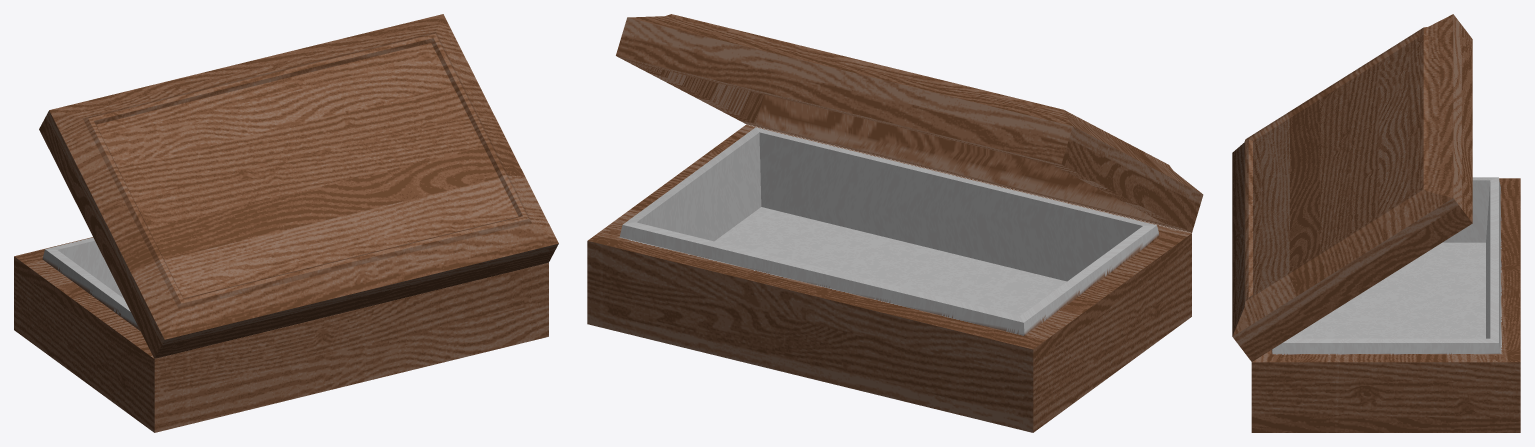
Rendered from joyero.FBX.
3 renders of one model, left to right at view 1: azimuth 30°, elevation 25°; view 2: azimuth 150°, elevation 25°; view 3: azimuth 270°, elevation 25°, orthographic. The views are drawn at different scales.
Visible parts, largest first — view 1: tapa, Box001; view 2: Box001, tapa; view 3: tapa, Box001.
Part boxes in pixels (x1=…): tapa: x1=39, y1=14, x2=558, y2=358; Box001: x1=14, y1=237, x2=548, y2=432; Box001: x1=587, y1=124, x2=1191, y2=432; tapa: x1=616, y1=14, x2=1203, y2=232; tapa: x1=1232, y1=14, x2=1472, y2=361; Box001: x1=1251, y1=177, x2=1520, y2=432.
Bounding box in the file's own units: 59.01 × 35.13 × 39.06.
1 material, 1 textured.
